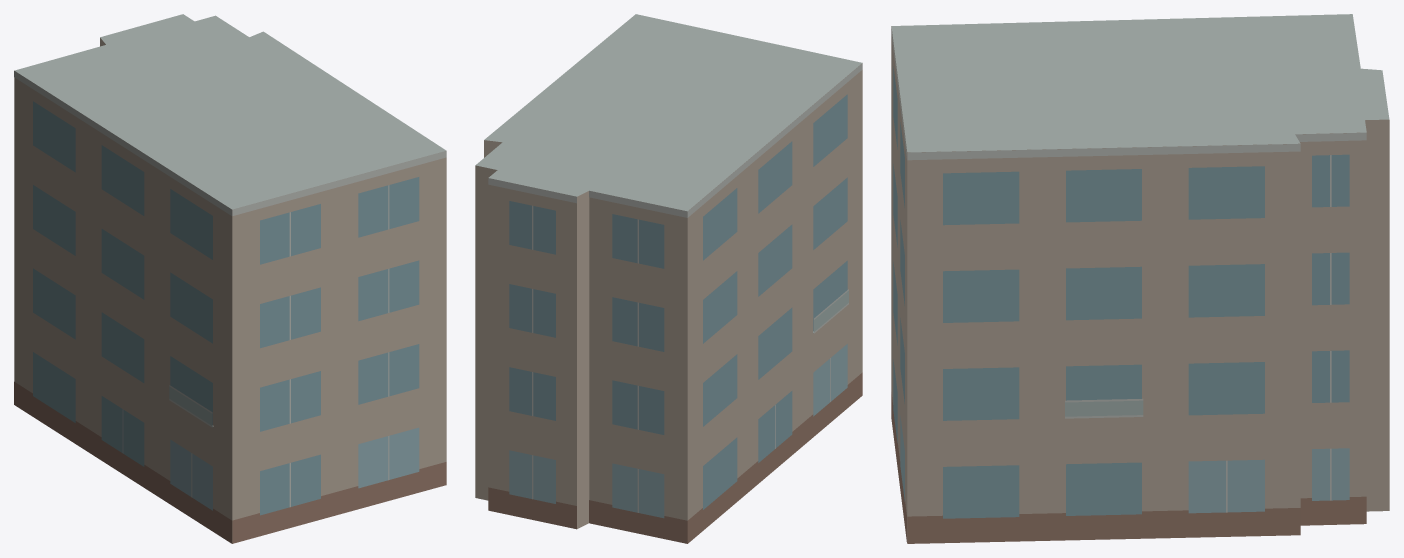
Rendered from survey-upis-32648429.glb.
The picture shows the model from 3 angles, left to right: view 1: azimuth 30°, elevation 25°; view 2: azimuth 150°, elevation 25°; view 3: azimuth 270°, elevation 25°; orthographic projection. The views are drawn at different scales.
Visible parts, largest first — view 1: survey-upis-32648429.tmp; view 2: survey-upis-32648429.tmp; view 3: survey-upis-32648429.tmp.
Boxes of the visible parts, x1,y1,x2,y2 form: survey-upis-32648429.tmp: (14,14,446,543); survey-upis-32648429.tmp: (475,14,862,543); survey-upis-32648429.tmp: (891,14,1389,543).
Size of the model in its own units: 9.26 by 12.2 by 14.08.
